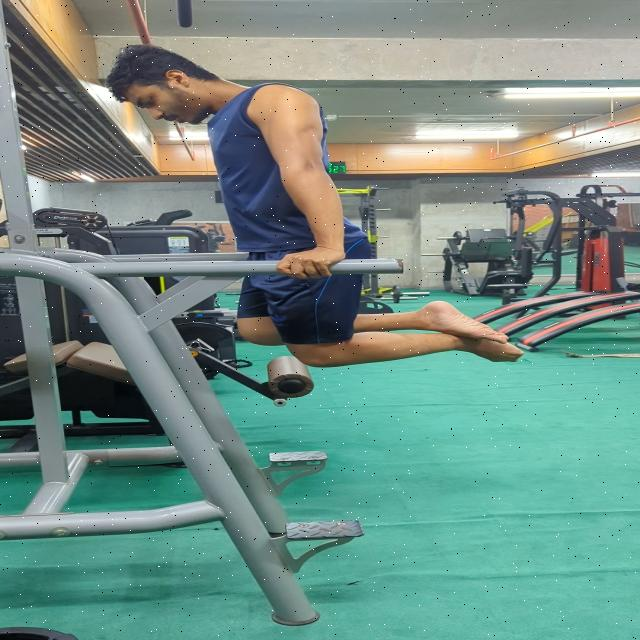Normal_Dips: (79, 42, 547, 377)
